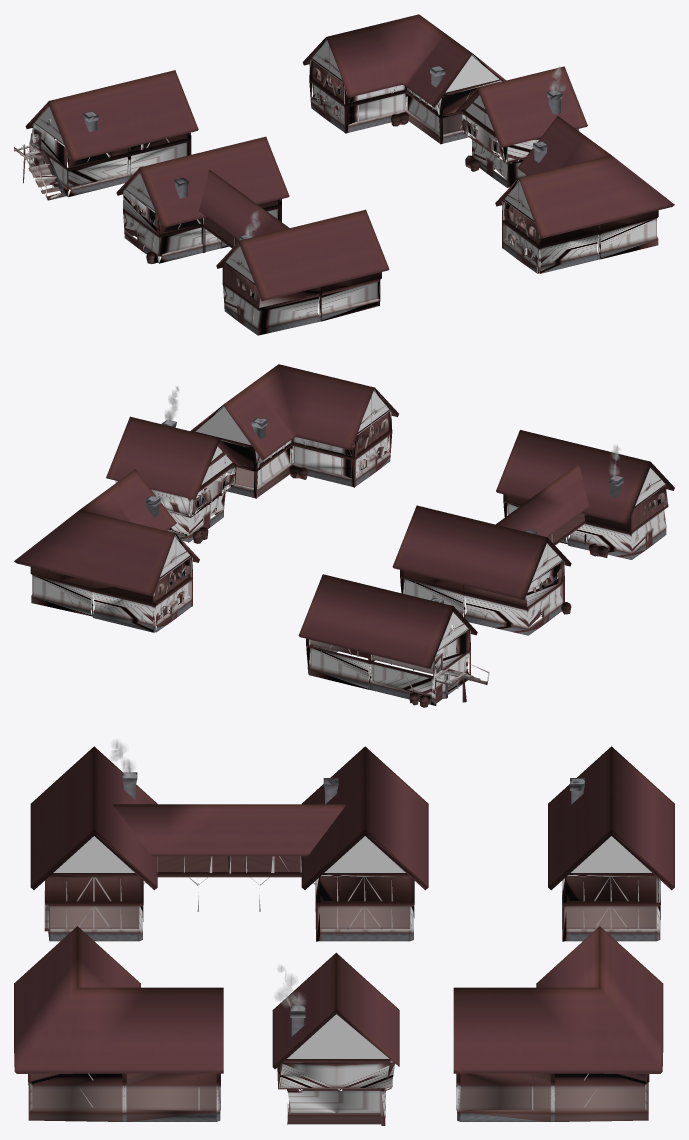
File: heritage_house.glb
3 renders of one model, top to bottom at view 1: azimuth 30°, elevation 25°; view 2: azimuth 150°, elevation 25°; view 3: azimuth 270°, elevation 25°, orthographic. The views are drawn at different scales.
Parts seen in each view (by area): view 1: body; view 2: body; view 3: body.
Boxes of the visible parts, box(x1,y1,x2,y2) form: body: box(14, 14, 674, 335); body: box(14, 364, 674, 707); body: box(14, 739, 674, 1125).
Size of the model in its own units: 14 by 3.51 by 13.62.
Materials: 2 (2 with a texture image).
